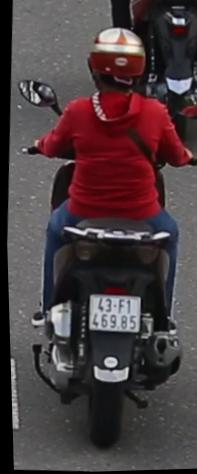LP: (82, 289, 141, 338)
helmet: (86, 24, 150, 103)
